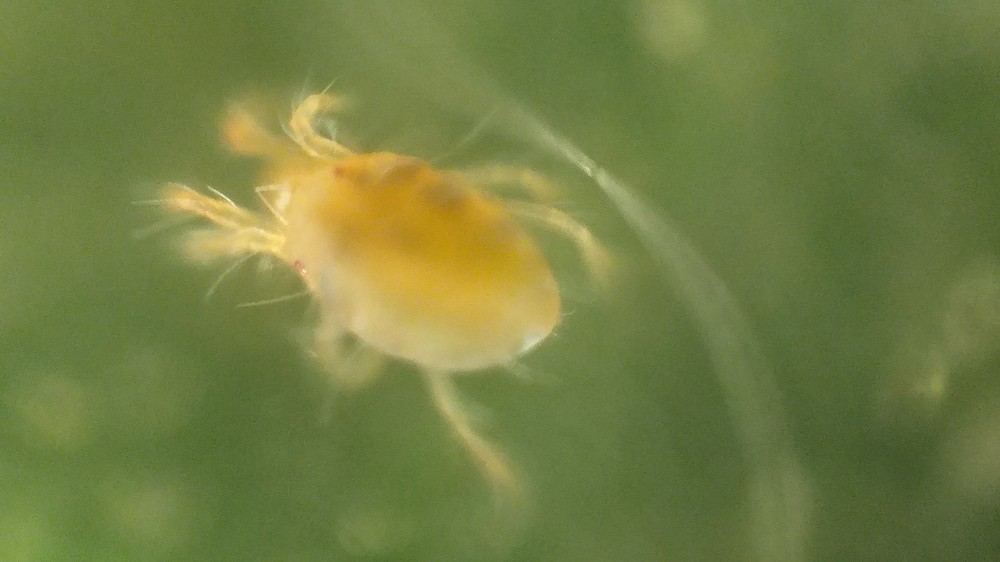Aracnido Rojo: (112, 52, 665, 499)
